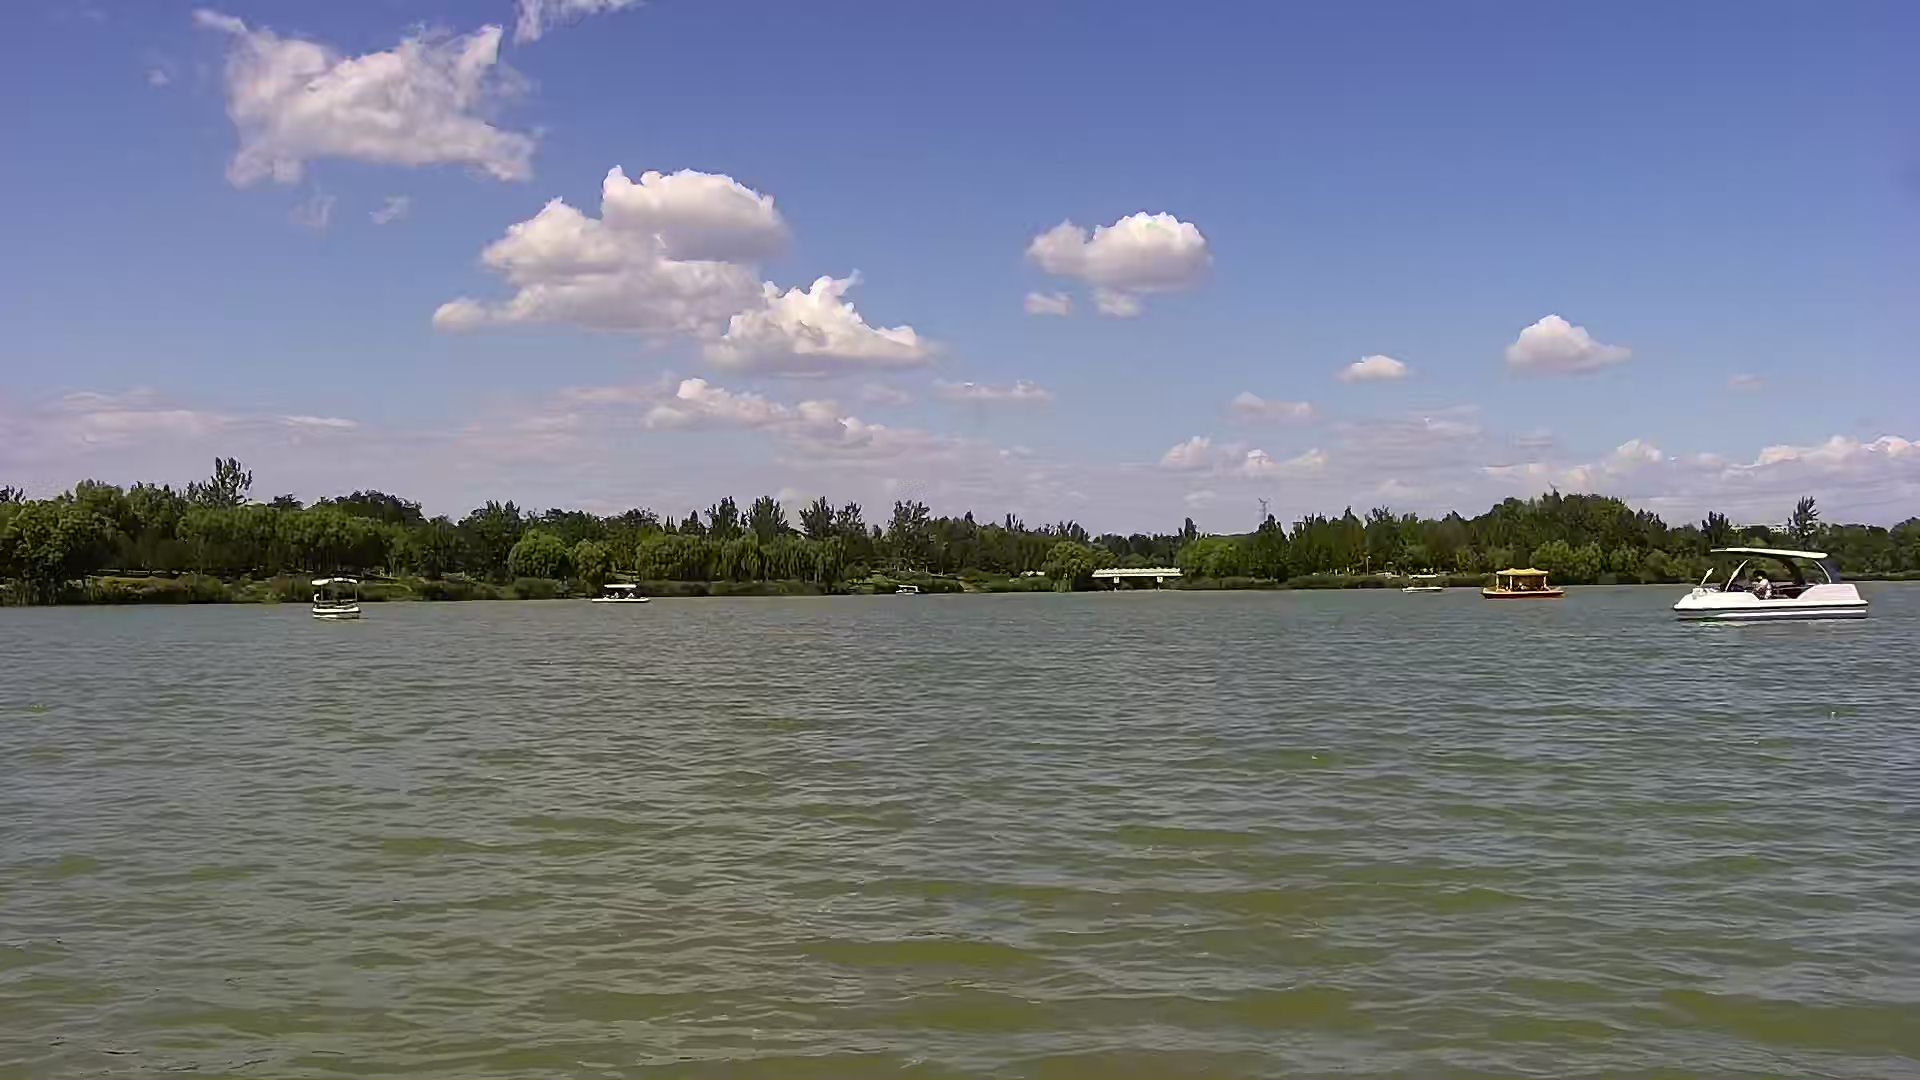boat: (1671, 543, 1866, 624), (1482, 564, 1557, 593), (311, 580, 359, 616), (593, 580, 647, 604), (1400, 574, 1441, 589)
bridge: (1095, 567, 1178, 589)
